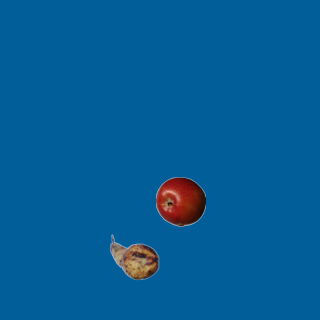Apple Braeburn: (155, 176, 205, 226)
Pear Abate: (109, 232, 159, 282)
